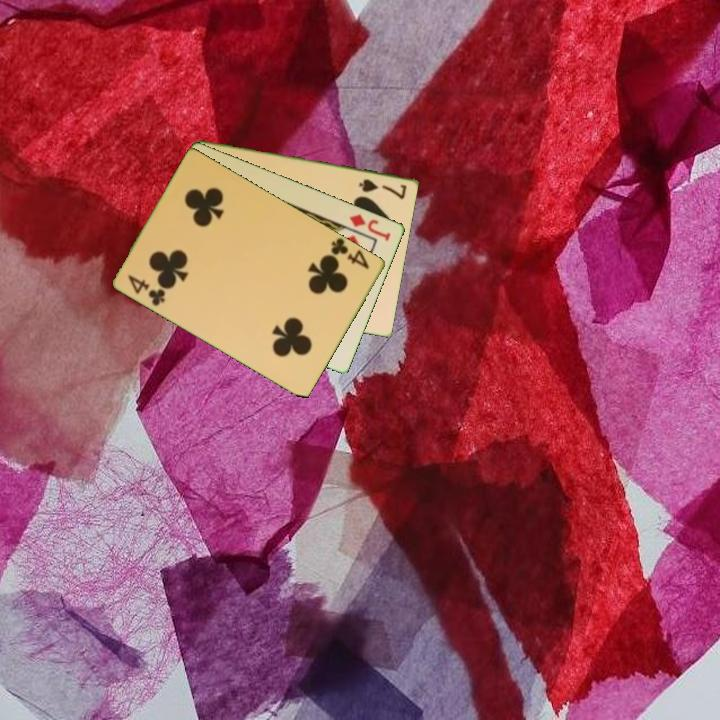4c: (327, 234, 373, 272), (124, 271, 169, 309)
7s: (356, 175, 410, 201)
Jd: (346, 210, 394, 243)
